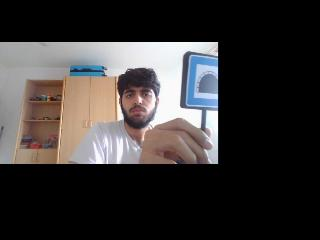tunnel: (180, 51, 218, 109)
